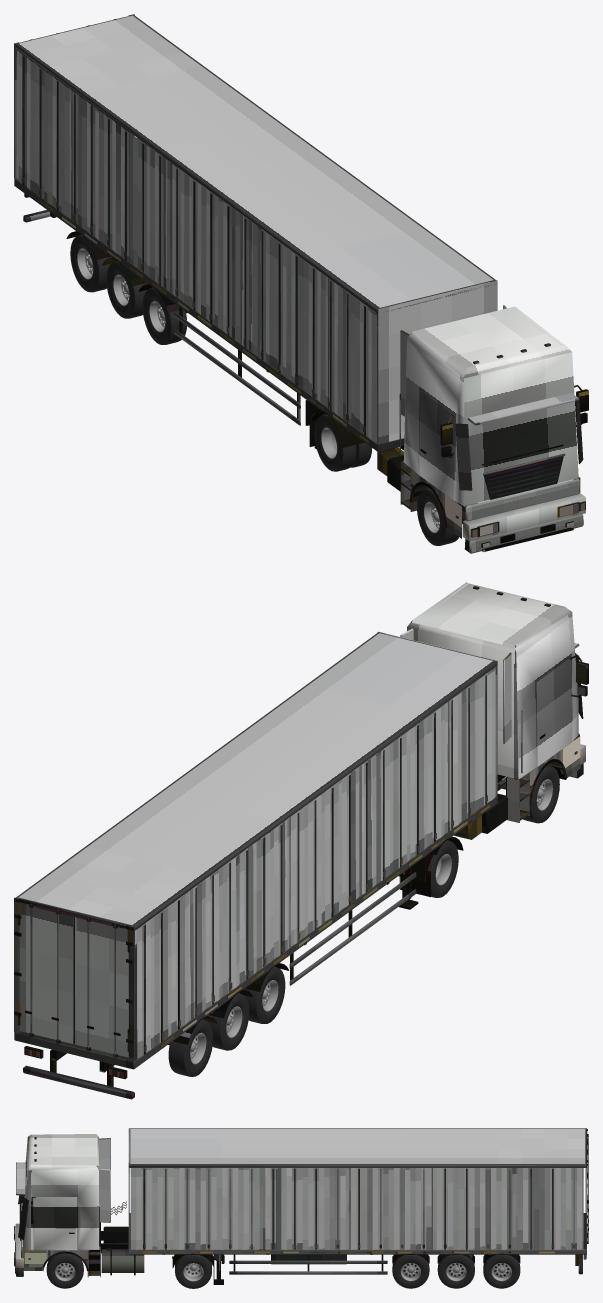
File: sattel_m.glb
3 renders of one model, top to bottom at view 1: azimuth 30°, elevation 25°; view 2: azimuth 150°, elevation 25°; view 3: azimuth 270°, elevation 25°, orthographic. The views are drawn at different scales.
Visible parts, largest first — view 1: koerper, rad_hr2_gummi, rad_hr_gummi, rad_hr4_gummi, rad_hr3_gummi, rad_vr_gummi; view 2: koerper, rad_hr4_gummi, rad_hr3_gummi, rad_hr2_gummi, rad_vr_gummi, rad_hr_gummi; view 3: koerper, rad_vl_gummi, rad_hl3_gummi, rad_hl2_gummi, rad_hl4_gummi, rad_hl_gummi, rad_hl_metall, rad_hl4_metall, rad_hl2_metall, rad_hl3_metall, rad_vl_metall.
Part boxes in pixels (x1,y1,x2,y2): koerper: [14, 14, 588, 553]; rad_hr2_gummi: [142, 287, 186, 344]; rad_hr_gummi: [314, 414, 356, 471]; rad_hr4_gummi: [70, 234, 111, 292]; rad_hr3_gummi: [106, 261, 147, 318]; rad_vr_gummi: [417, 488, 458, 545]; koerper: [14, 582, 588, 1099]; rad_hr4_gummi: [168, 1019, 213, 1076]; rad_hr3_gummi: [207, 993, 249, 1050]; rad_hr2_gummi: [244, 966, 285, 1023]; rad_vr_gummi: [523, 765, 559, 823]; rad_hr_gummi: [431, 840, 458, 897]; koerper: [14, 1128, 588, 1284]; rad_vl_gummi: [46, 1253, 83, 1288]; rad_hl3_gummi: [437, 1254, 474, 1288]; rad_hl2_gummi: [392, 1254, 429, 1288]; rad_hl4_gummi: [483, 1254, 520, 1288]; rad_hl_gummi: [175, 1254, 211, 1288]; rad_hl_metall: [183, 1263, 203, 1281]; rad_hl4_metall: [491, 1262, 511, 1281]; rad_hl2_metall: [400, 1262, 420, 1281]; rad_hl3_metall: [446, 1262, 466, 1281]; rad_vl_metall: [55, 1262, 75, 1281].
Size of the model in its own units: 3.08 by 3.98 by 16.58.
3 materials, 1 textured.
